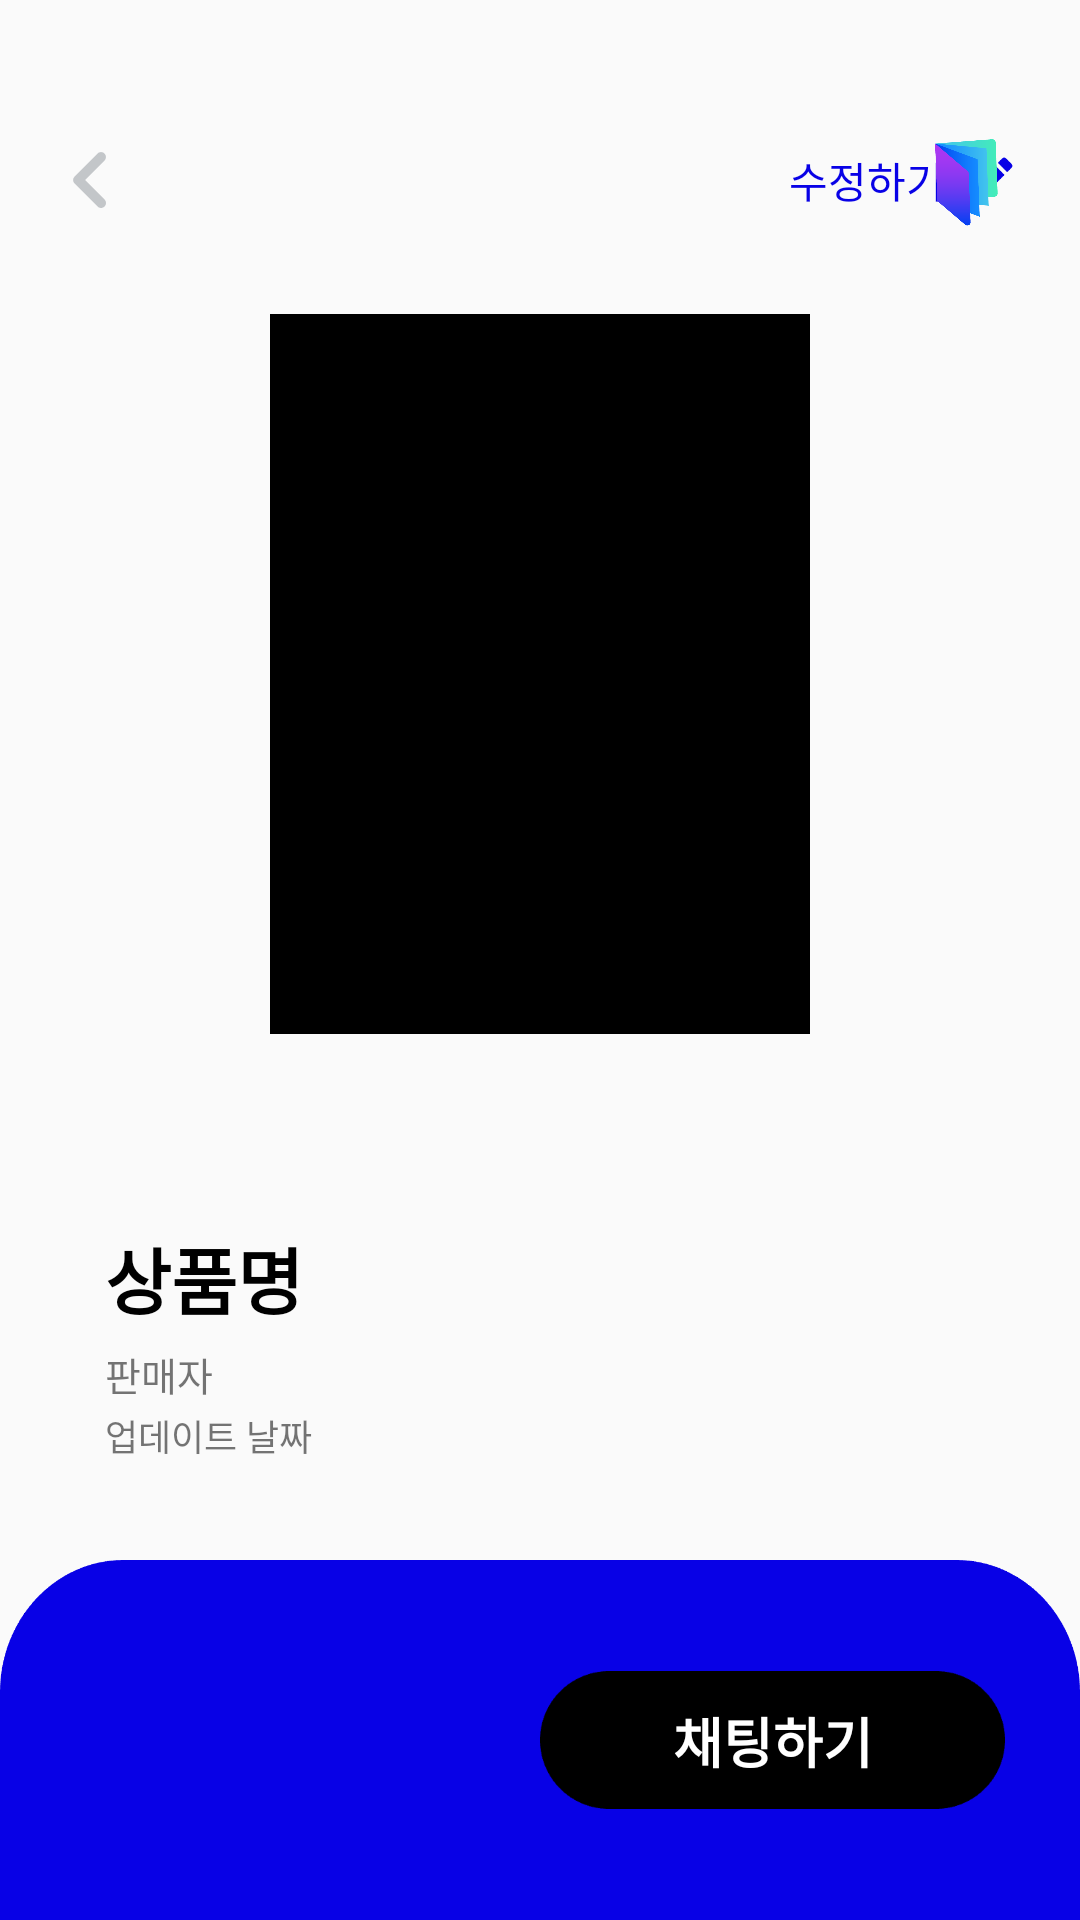

Icons on this 1080 x 1920 Android screen, each with its box as (x1, y1, x2, y2):
before: (73, 152, 106, 208)
